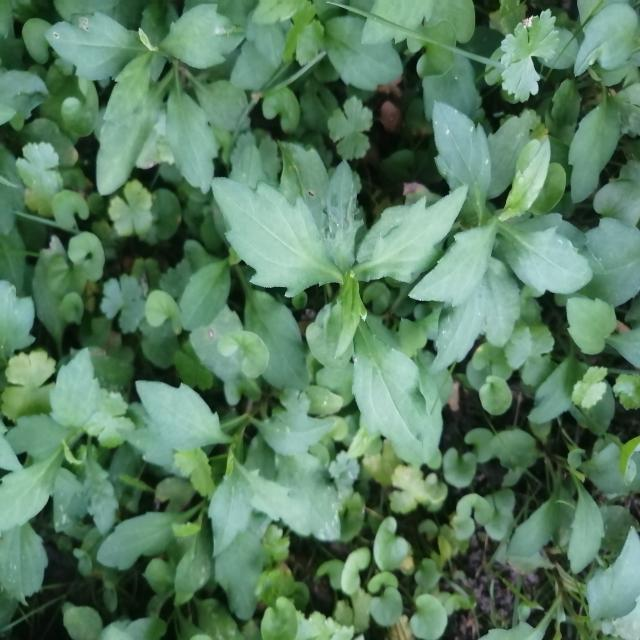Indian aster: (235, 168, 468, 460), (148, 367, 354, 564), (460, 105, 588, 347)
